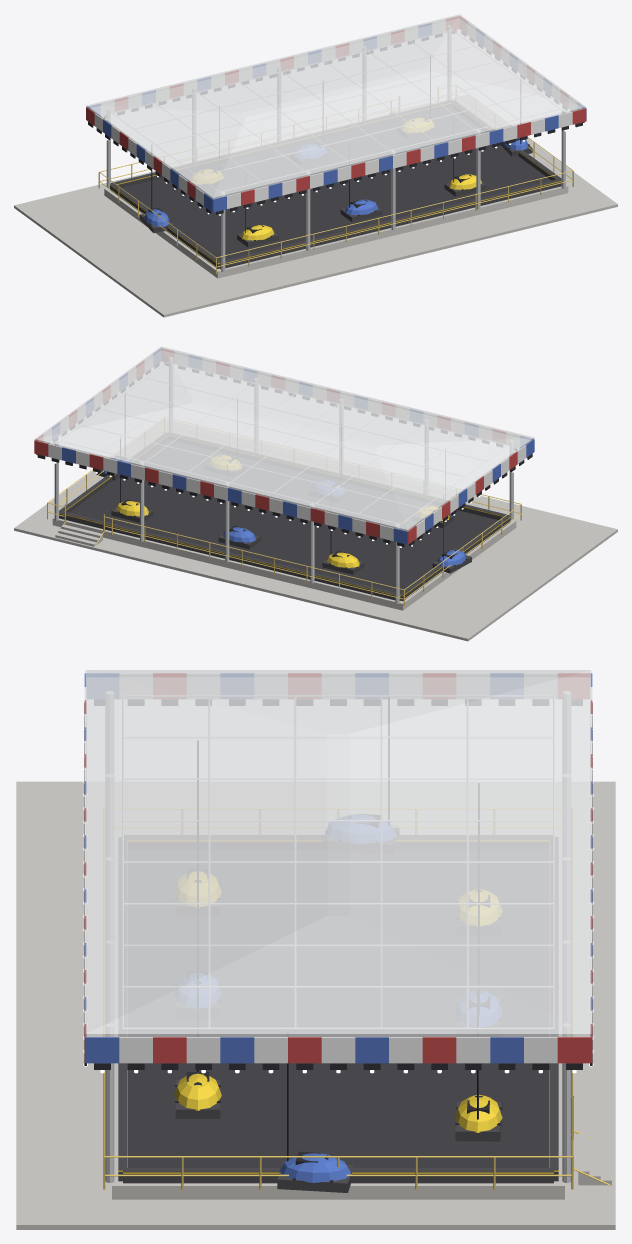
3 renders of one model, top to bottom at view 1: azimuth 30°, elevation 25°; view 2: azimuth 150°, elevation 25°; view 3: azimuth 270°, elevation 25°, orthographic. The views are drawn at different scales.
Parts seen in each view (by area): view 1: base, car7, car0, car6, car1, car4, car3, car2; view 2: base, car2, car4, car1, car3, car7, car6; view 3: base, car5, car1, car6, car4, car7, car0, car3, car2.
Boxes of the visible parts, x1,y1,x2,y2 form: base: (14,14,617,317); car7: (340,143,382,221); car0: (237,190,278,247); car6: (444,139,486,196); car1: (140,153,174,232); car4: (397,58,438,138); car3: (290,143,331,165); car2: (186,168,227,189); base: (14,346,617,641); car2: (322,511,364,574); car4: (111,440,153,522); car1: (432,504,471,573); car3: (218,525,260,549); car7: (309,424,349,501); car6: (205,455,245,476); base: (16,670,615,1229); car5: (277,1031,353,1192); car1: (323,697,398,853); car6: (174,943,221,1118); car4: (455,989,502,1141); car7: (175,842,220,1017); car0: (175,741,220,915); car3: (456,885,501,1036); car2: (456,784,501,934).
Size of the model in its own units: 28 by 6.15 by 16.
